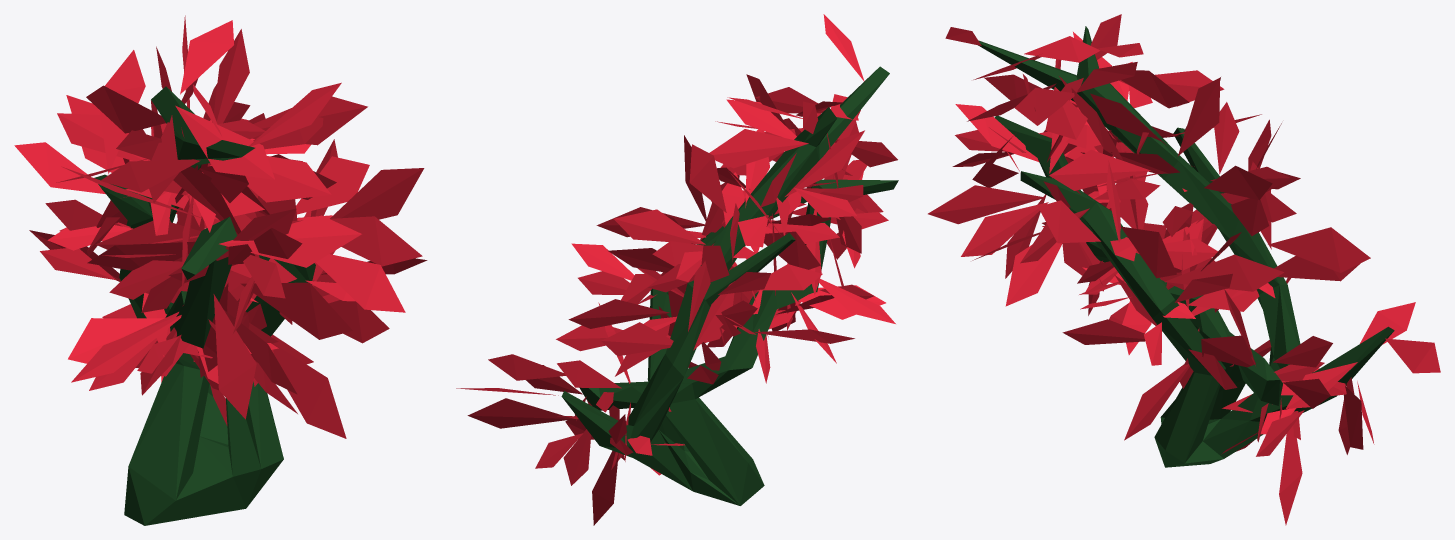
3 renders of one model, left to right at view 1: azimuth 30°, elevation 25°; view 2: azimuth 150°, elevation 25°; view 3: azimuth 270°, elevation 25°, orthographic. The views are drawn at different scales.
Parts seen in each view (by area): view 1: Cube.001; view 2: Cube.001; view 3: Cube.001.
Part boxes in pixels (x1,y1,x2,y2): Cube.001: (14, 15, 427, 525); Cube.001: (456, 14, 898, 525); Cube.001: (928, 14, 1440, 525).
Bounding box in the file's own units: 2121 × 2799 × 2844.
